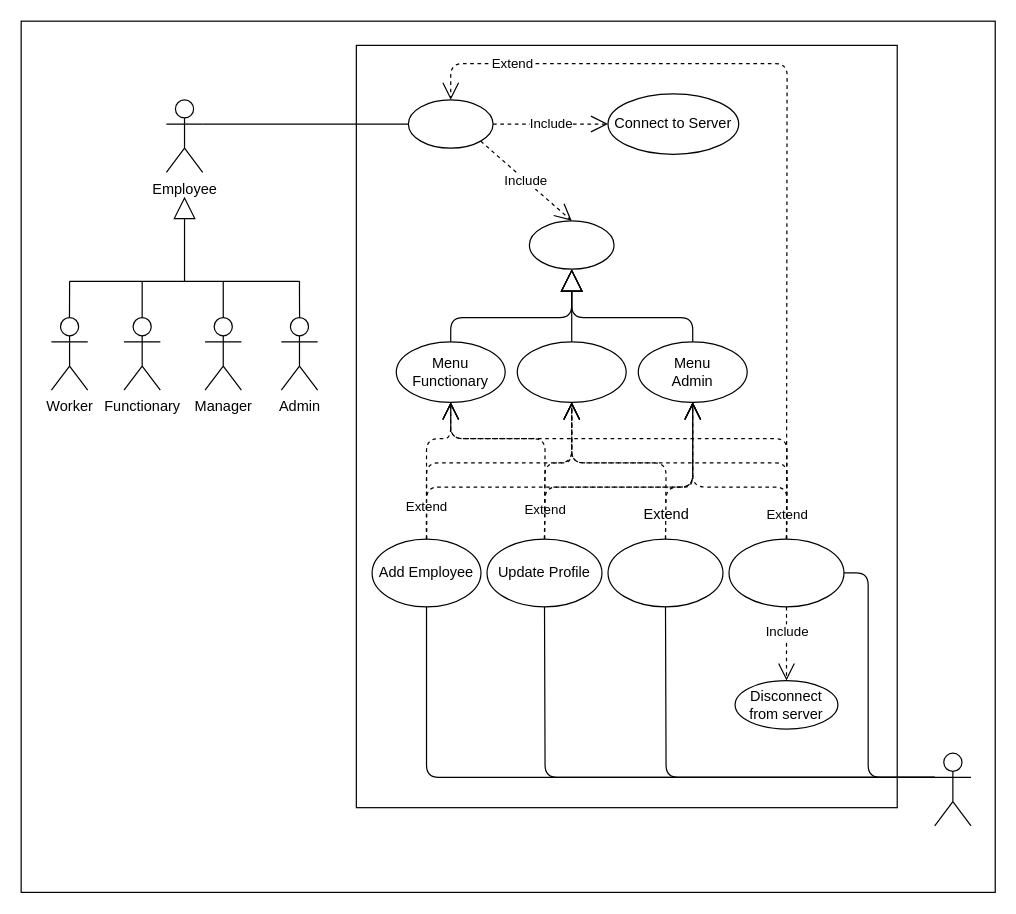
Some shapes in this 1016 by 914 pixel diagram are drawn without their labels. Each missing label, with the box of its shape:
Login: (407, 99, 493, 148)
Logout: (728, 538, 844, 607)
Menu: (528, 220, 614, 269)
Menu Manager: (516, 341, 626, 402)
Search by Job: (607, 538, 723, 607)
Server: (934, 752, 971, 826)
